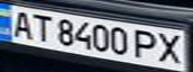0: (109, 25, 133, 56), (90, 21, 112, 54)
4: (72, 19, 93, 51)
8: (51, 16, 75, 47)
A: (6, 8, 36, 39)
P: (130, 27, 163, 61)
T: (27, 11, 57, 43)
X: (154, 29, 190, 65)
